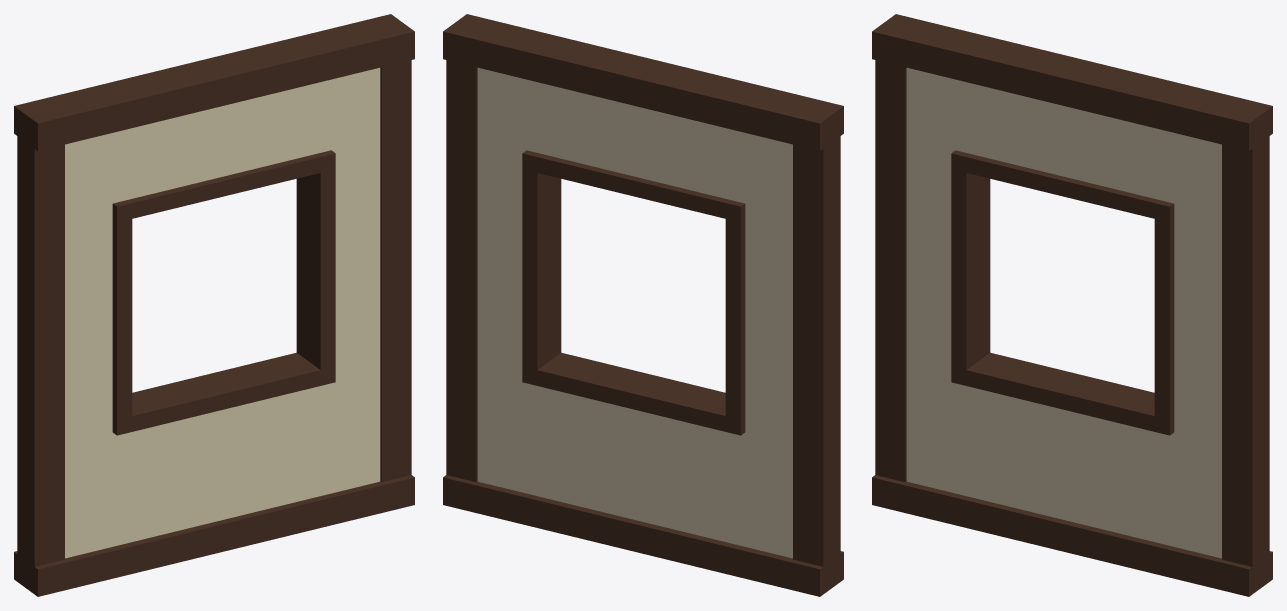
The model's file is 803_empty_rectangular_window_wall.fbx.
3 views of the same model, side by side, from view 1: azimuth 30°, elevation 25°; view 2: azimuth 150°, elevation 25°; view 3: azimuth 330°, elevation 25° (orthographic).
Visible parts, largest first — view 1: 803_empty_rectangular_window_wall; view 2: 803_empty_rectangular_window_wall; view 3: 803_empty_rectangular_window_wall.
Part boxes in pixels (box(x1,y1,x2,y2)): 803_empty_rectangular_window_wall: box(14, 14, 414, 596); 803_empty_rectangular_window_wall: box(443, 14, 843, 596); 803_empty_rectangular_window_wall: box(872, 14, 1272, 596).
Size of the model in its own units: 2 by 2.4 by 0.22.
1 material, 1 textured.
